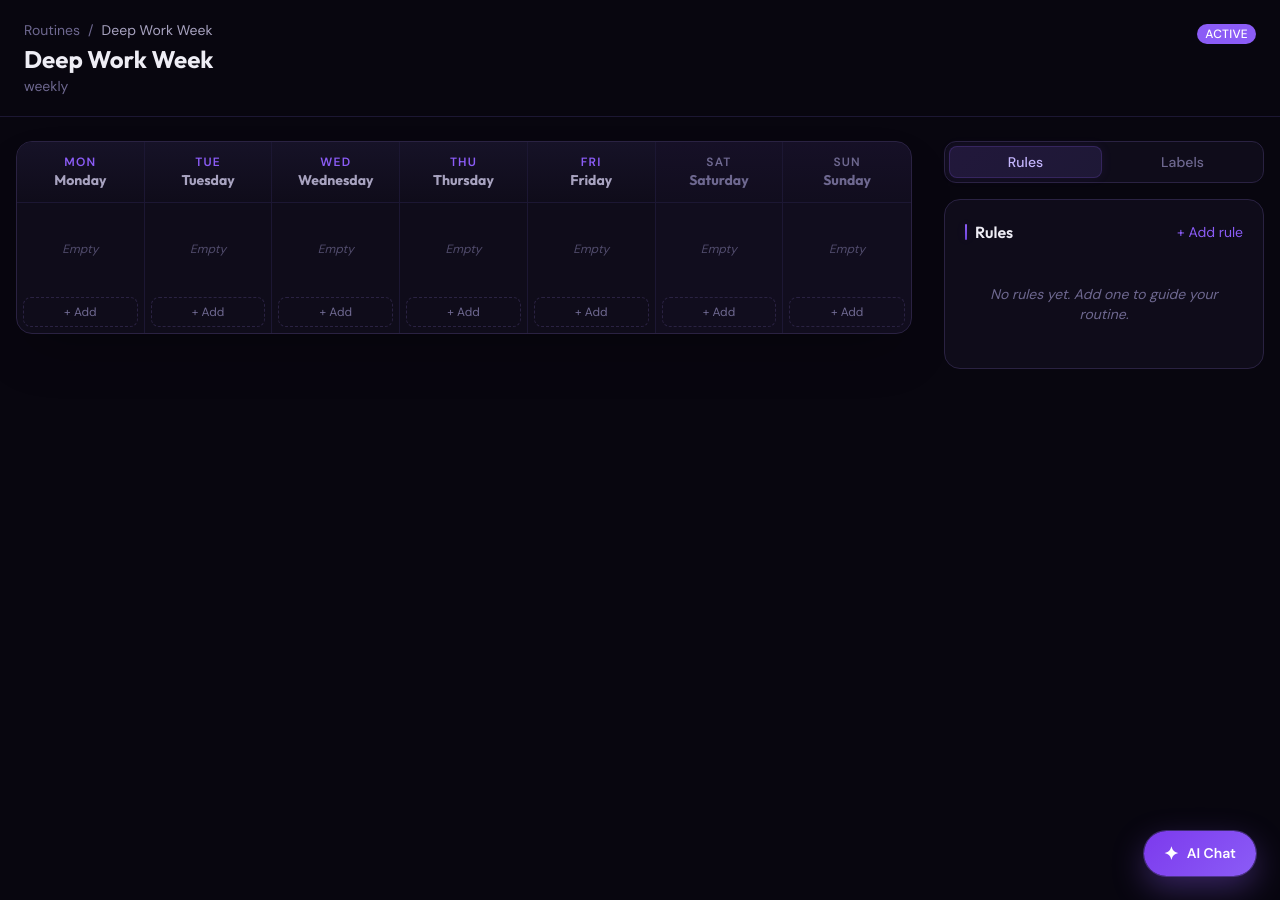
Test case: RoutineDetail page › opens BlockModal when Add button is clicked
Click the button with aria-label "add block to": point(80, 312) [23,296,138,326]
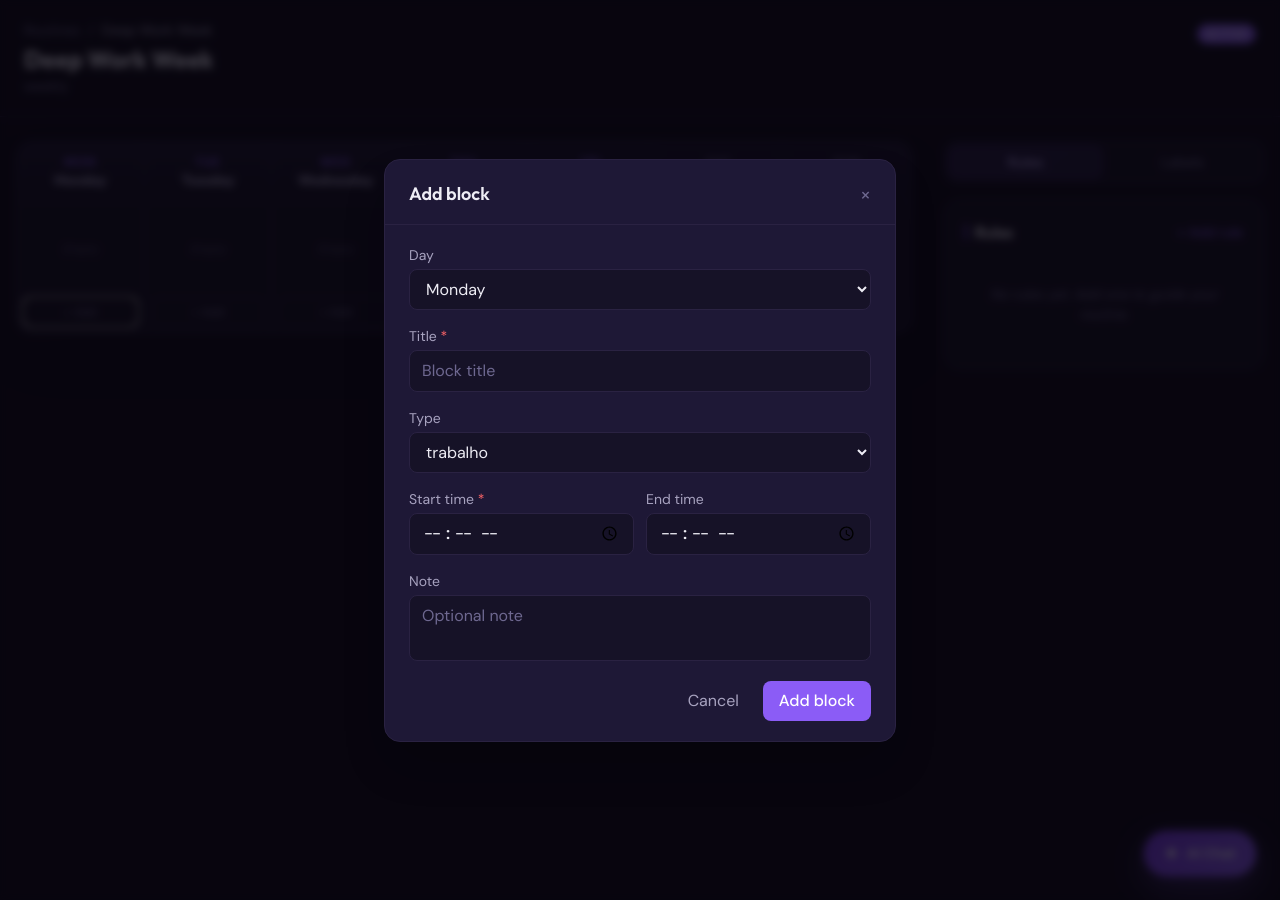
Expected: the dialog "Add block" is shown
